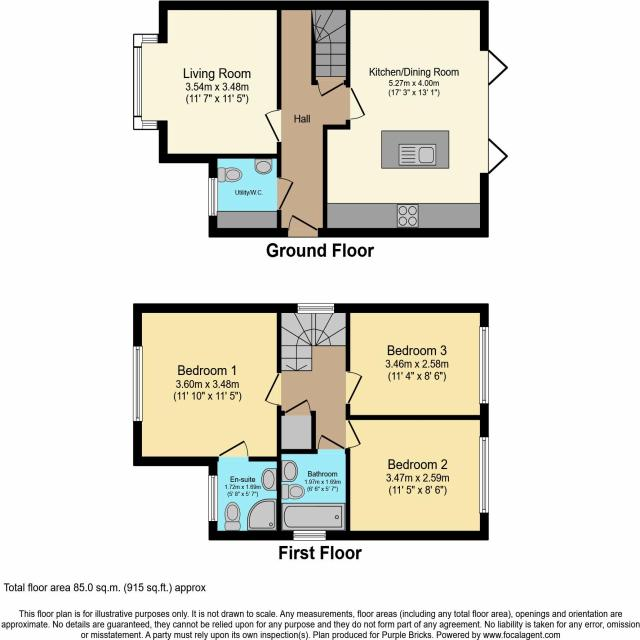DOOR: (286, 210, 321, 239), (342, 85, 368, 121), (274, 176, 297, 214), (217, 439, 251, 463), (262, 107, 284, 144), (343, 369, 365, 406), (316, 430, 348, 455), (262, 370, 283, 407), (344, 418, 364, 450)
FOLDING DOOR: (482, 47, 511, 176)
ROOM: (322, 0, 512, 240), (130, 300, 282, 468), (131, 0, 283, 164), (344, 413, 492, 543), (343, 302, 490, 422)
WINDOW: (475, 324, 492, 407), (477, 435, 493, 516), (131, 344, 144, 424), (131, 45, 144, 118), (206, 474, 219, 524), (296, 301, 335, 316), (207, 175, 220, 217), (291, 528, 328, 542), (141, 118, 159, 132), (141, 32, 160, 45)
